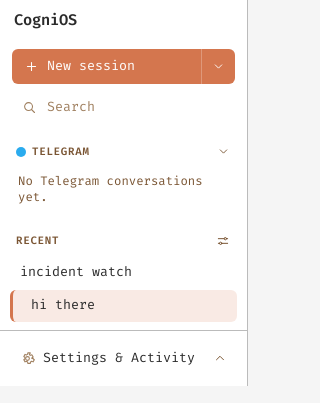
Test: New-session split button › hides Manage personas… while the launch flag is off (the default)
The width and height of the screenshot is (320, 403).
Expected: the button named "Group and filter conversations" is shown, [211, 228, 235, 252]
Click the button named "Choose a persona". click: click(218, 66)
box: [201, 48, 235, 84]
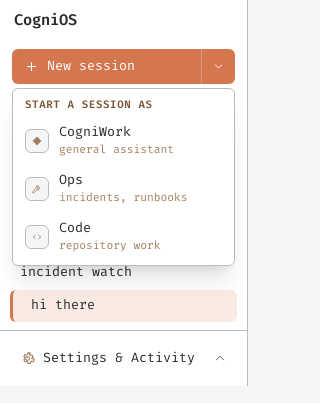
Now the text "Ops" is shown, box [59, 172, 83, 188]
